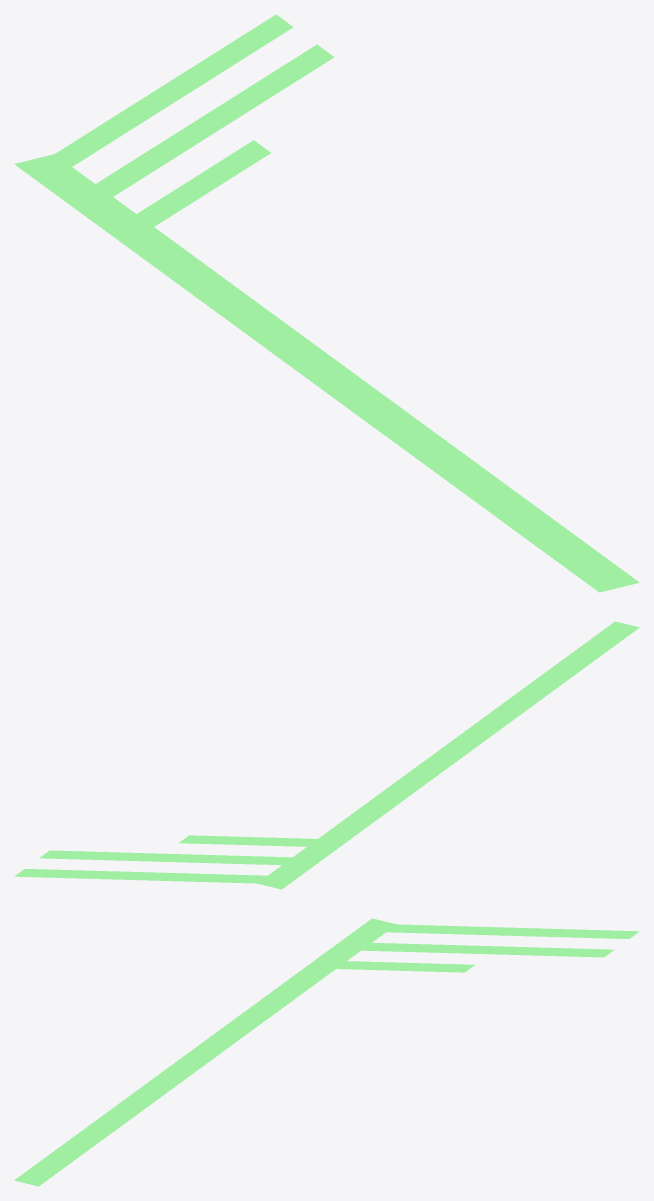
File: 006nhemi02250275kts.dae
3 views of the same model, one above another, from view 1: azimuth 30°, elevation 25°; view 2: azimuth 150°, elevation 25°; view 3: azimuth 330°, elevation 25° (orthographic). The views are drawn at different scales.
Parts seen in each view (by area): view 1: Plane; view 2: Plane; view 3: Plane.
Part boxes in pixels (x1,y1,x2,y2): Plane: (14, 15, 639, 592); Plane: (15, 621, 639, 889); Plane: (14, 918, 638, 1186).
Size of the model in its own units: 34.51 by 115 by 0.
